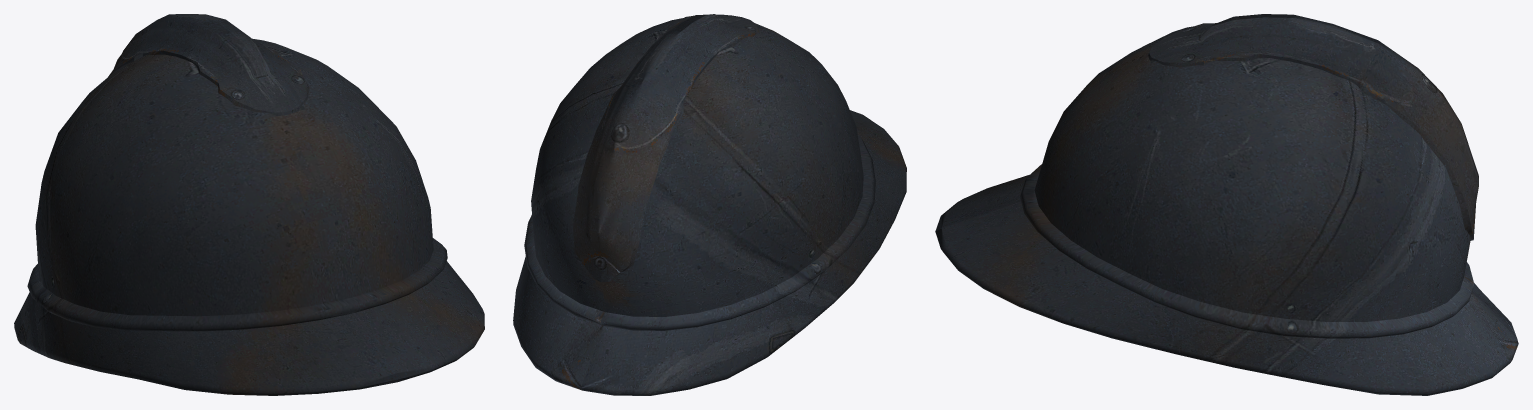
Rendered from fr_headgear.obj.
3 views of the same model, side by side, from view 1: azimuth 30°, elevation 25°; view 2: azimuth 150°, elevation 25°; view 3: azimuth 270°, elevation 25° (orthographic). The views are drawn at different scales.
Parts seen in each view (by area): view 1: fr_headgear_adrian_inf; view 2: fr_headgear_adrian_inf; view 3: fr_headgear_adrian_inf.
Boxes of the visible parts, x1,y1,x2,y2 form: fr_headgear_adrian_inf: [14, 14, 484, 395]; fr_headgear_adrian_inf: [513, 14, 906, 395]; fr_headgear_adrian_inf: [935, 14, 1518, 395].
Size of the model in its own units: 0.5241 by 0.4757 by 0.7612.
